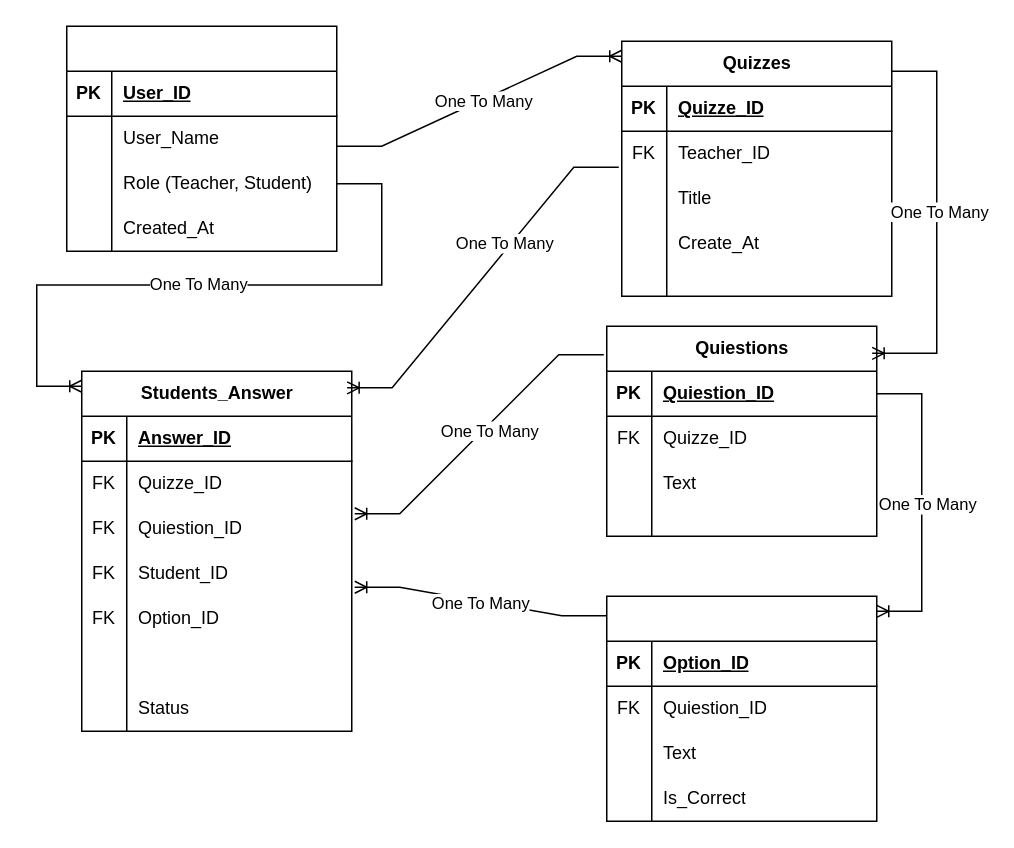
Image size: 1014x848. Some labels were removed from this diagram. The box of each missing label's shape, as (x1, y1, x2, y2) in pixels:
Options: (605, 595, 877, 821)
Users: (65, 25, 337, 251)
